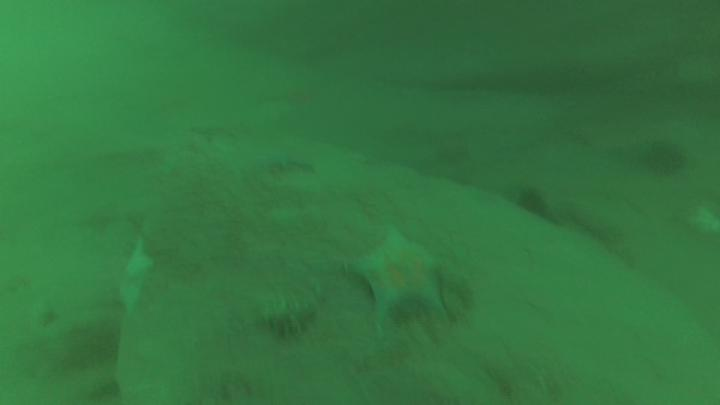echinus: (639, 135, 689, 184), (514, 184, 552, 220)
holothurian: (260, 297, 322, 339)
starfish: (348, 219, 459, 334), (258, 148, 315, 178)
